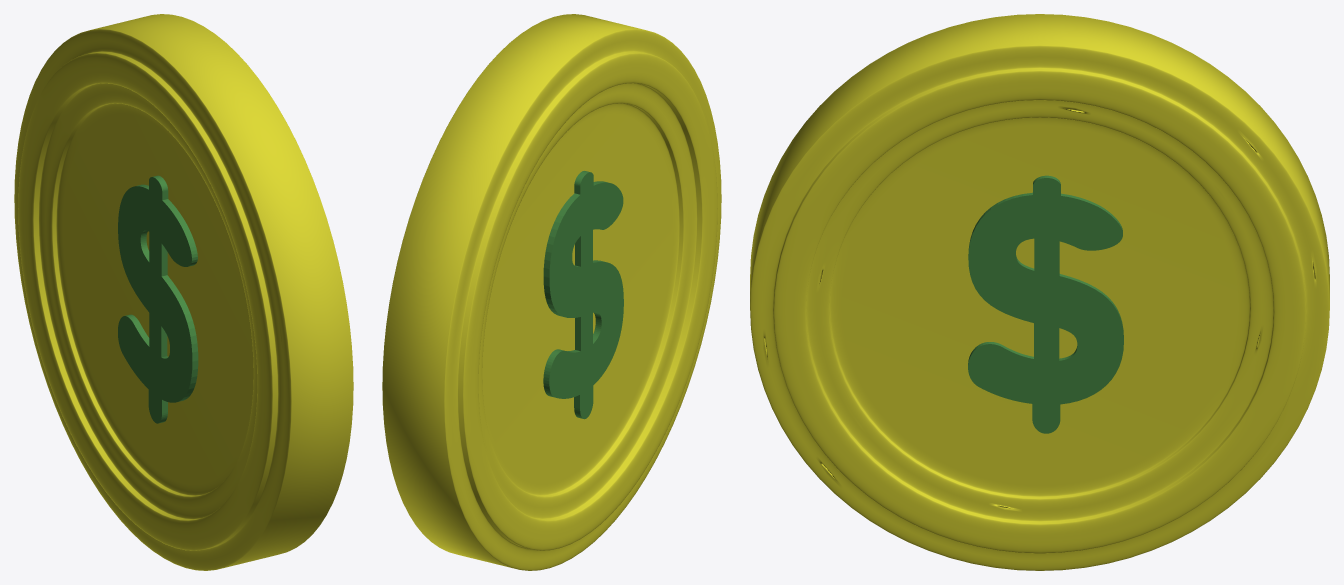
Rendered from moeda Pronto.fbx.
The picture shows the model from 3 angles, left to right: view 1: azimuth 30°, elevation 25°; view 2: azimuth 150°, elevation 25°; view 3: azimuth 270°, elevation 25°; orthographic projection. The views are drawn at different scales.
Visible parts, largest first — view 1: Cilindro, Curve.001; view 2: Cilindro, Curve.001; view 3: Cilindro, Curve.
Part boxes in pixels (box(x1,y1,x2,y2)): Cilindro: box(14, 14, 353, 570); Curve.001: box(118, 175, 198, 423); Cilindro: box(382, 14, 721, 570); Curve.001: box(543, 171, 623, 419); Cilindro: box(750, 14, 1329, 570); Curve: box(968, 175, 1123, 433).
Bounding box in the file's own units: 33.03 × 200 × 200.
